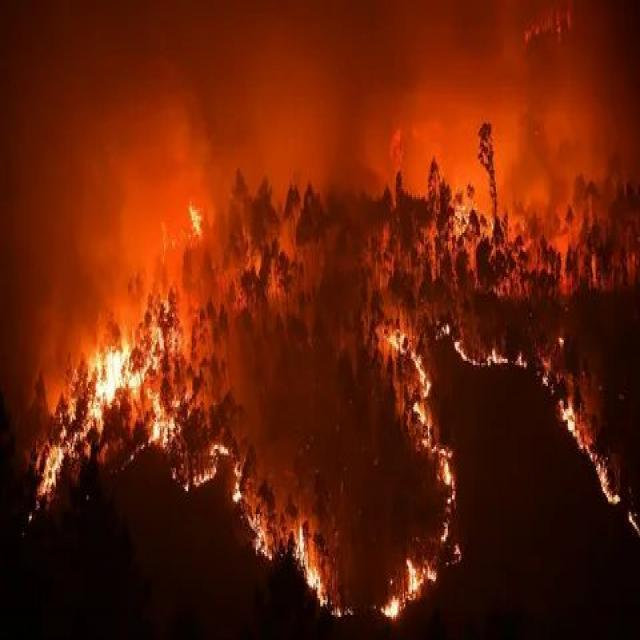Fire: (347, 291, 512, 640), (27, 301, 225, 514), (503, 328, 640, 553), (225, 462, 355, 638)
